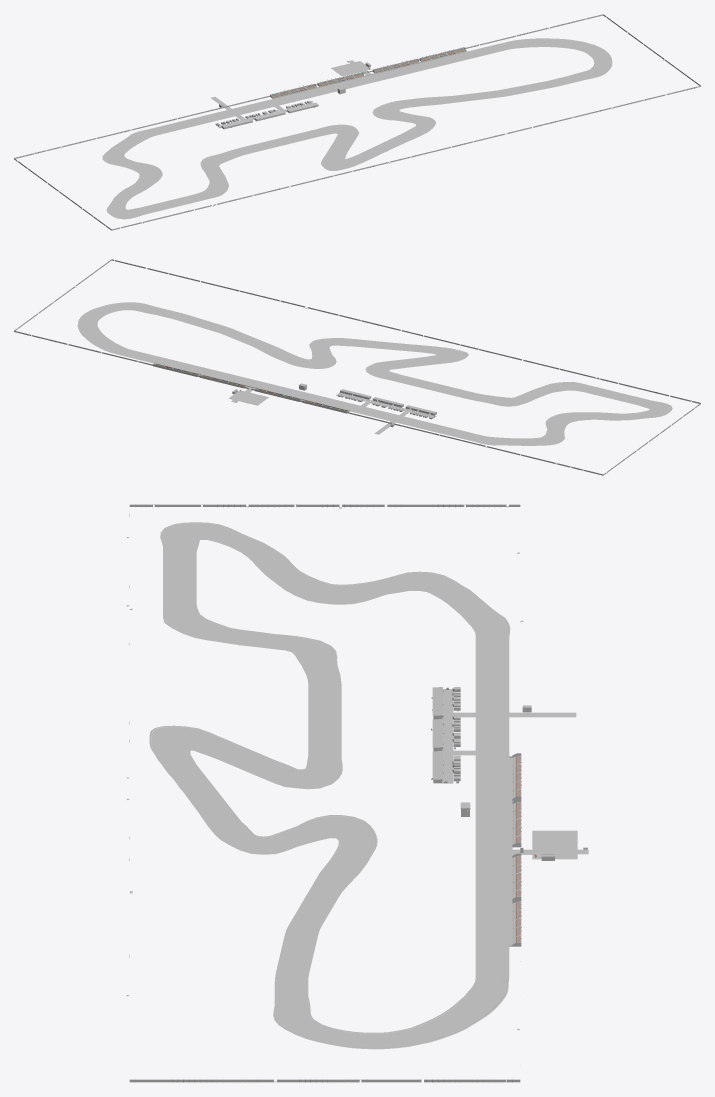
File: Racetrack.fbx
3 views of the same model, one above another, from view 1: azimuth 30°, elevation 25°; view 2: azimuth 150°, elevation 25°; view 3: azimuth 270°, elevation 25° (orthographic). The views are drawn at different scales.
Visible parts, largest first — view 1: Prichal.002, FenceLoop1.006, Prichal.001; view 2: Prichal.002, FenceLoop1.006, Prichal.001; view 3: Prichal.002, FenceLoop1.006, Prichal.001.
Boxes of the visible parts, <box> form: Prichal.002: <box>102,38,612,219</box>; FenceLoop1.006: <box>14,14,700,230</box>; Prichal.001: <box>272,50,466,98</box>; Prichal.002: <box>77,302,672,445</box>; FenceLoop1.006: <box>14,259,700,475</box>; Prichal.001: <box>155,363,349,411</box>; Prichal.002: <box>149,522,576,1049</box>; FenceLoop1.006: <box>126,504,523,1082</box>; Prichal.001: <box>509,756,588,946</box>.
Bounding box in the file's own units: 122178 × 856 × 41376.
